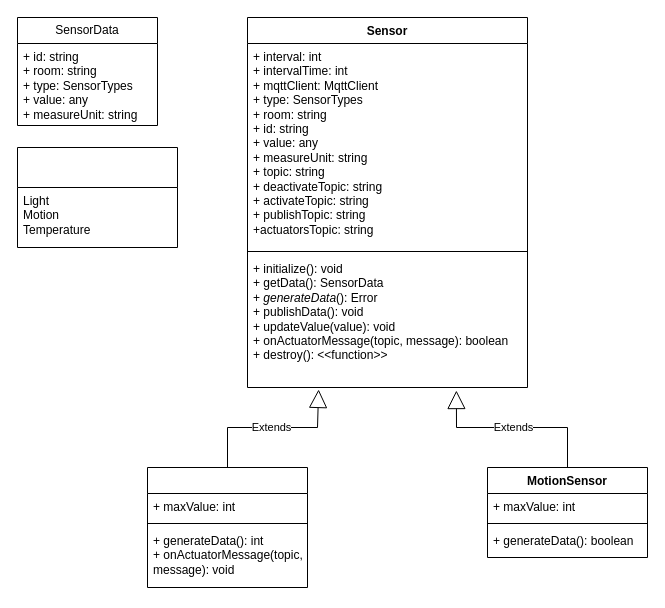
Some shapes in this 665 by 608 pixel diagram are drawn without their labels. The box of each missing label's shape, as (x1, y1, x2, y2) in pixels:
<<enumeration>> SensorTypes: (16, 146, 178, 248)
LightSensor: (146, 466, 308, 588)
